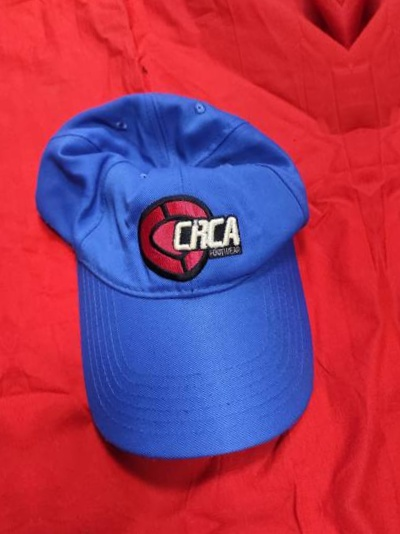Hat: (0, 22, 359, 486), (391, 0, 400, 427), (0, 75, 5, 534)
